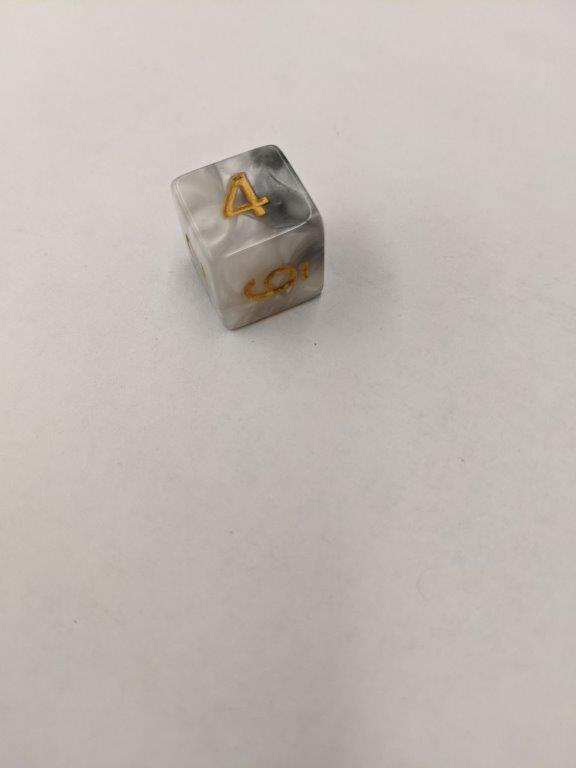d6-4: (170, 141, 328, 335)
